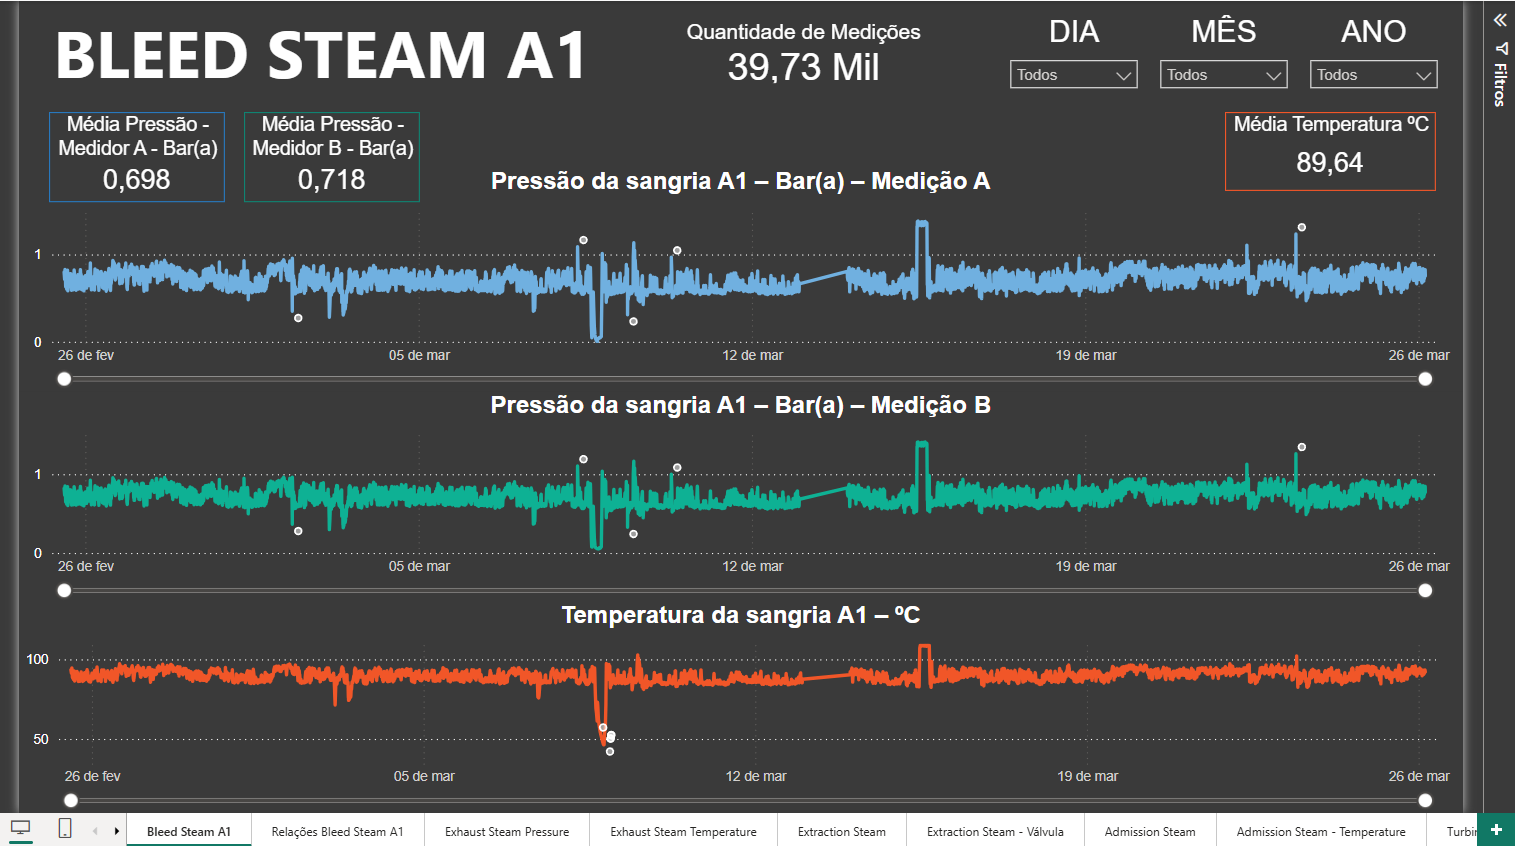

Layout of this report page (visuals, bound fields, positions):
{"tool":"powerbi","page":{"name":"Bleed Steam A1","canvas":[1280,720],"ordinal":0},"visuals":[{"type":"lineChart","title":"Pressão da sangria A1 – Bar(a) – Medição A","fields":{"Y":["Avg(TESTE - DADOS OPERAC TURB VAPOR.\"\"BLS1P_A\"\": \"\"BLEED STEAM A1 - PRESSURE (PROTECION MEASUREMENT A) - Actual Value\"\" "],"Category":["TESTE - DADOS OPERAC TURB VAPOR.Date"]},"box":[0,147.8,1280,198.4],"z":0},{"type":"textbox","box":[0,0,554.4,87.5],"z":1000},{"type":"slicer","title":"ANO","fields":{"Values":["TESTE - DADOS OPERAC TURB VAPOR.Date.Variation.Hierarquia de datas.Ano"]},"box":[1135.1,12.6,133.3,70],"z":2000},{"type":"slicer","title":"MÊS","fields":{"Values":["TESTE - DADOS OPERAC TURB VAPOR.Date.Variation.Hierarquia de datas.Mês"]},"box":[1001.8,12.6,133.3,70],"z":3000},{"type":"slicer","title":"DIA","fields":{"Values":["TESTE - DADOS OPERAC TURB VAPOR.Date.Variation.Hierarquia de datas.Dia"]},"box":[868.6,12.6,133.3,85.6],"z":4000},{"type":"lineChart","title":"Pressão da sangria A1 – Bar(a) – Medição B","fields":{"Y":["Sum(TESTE - DADOS OPERAC TURB VAPOR.\"\"BLS1P_B\"\": \"\"BLEED STEAM A1 - PRESSURE (PROTECION MEASUREMENT B) - Actual Value\"\" "],"Category":["TESTE - DADOS OPERAC TURB VAPOR.Date"]},"box":[0,346.3,1280,186.7],"z":5000},{"type":"lineChart","title":"Temperatura da sangria A1 – ºC","fields":{"Y":["Sum(TESTE - DADOS OPERAC TURB VAPOR.\"\"BLS1T\"\": \"\"BLEED STEAM A1 - TEMPERATURE - Actual Value\"\" (\"\"ºC\"\"))"],"Category":["TESTE - DADOS OPERAC TURB VAPOR.Date"]},"box":[0,533,1280,186.7],"z":6000},{"type":"card","title":"Quantidade de Medições","fields":{"Values":["CountNonNull(TESTE - DADOS OPERAC TURB VAPOR.\"\"BLS1P_A\"\": \"\"BLEED STEAM A1 - PRESSURE (PROTECION MEASUREMENT A) - Actual Value\"\" "]},"box":[572.9,16.5,246.1,61.3],"z":7000},{"type":"card","title":"Média Pressão - Medidor A - Bar(a)","fields":{"Values":["Avg(TESTE - DADOS OPERAC TURB VAPOR.\"\"BLS1P_A\"\": \"\"BLEED STEAM A1 - PRESSURE (PROTECION MEASUREMENT A) - Actual Value\"\" "]},"box":[26.3,98.2,155.6,79.8],"z":8000},{"type":"card","title":"Média Temperatura ºC","fields":{"Values":["Avg(TESTE - DADOS OPERAC TURB VAPOR.\"\"BLS1T\"\": \"\"BLEED STEAM A1 - TEMPERATURE - Actual Value\"\" (\"\"ºC\"\"))"]},"box":[1068.9,98.2,186.7,70],"z":9000},{"type":"card","title":"Média Pressão - Medidor B - Bar(a)","fields":{"Values":["Avg(TESTE - DADOS OPERAC TURB VAPOR.\"\"BLS1P_B\"\": \"\"BLEED STEAM A1 - PRESSURE (PROTECION MEASUREMENT B) - Actual Value\"\" "]},"box":[199.4,98.2,155.6,79.8],"z":10000}]}

Visuals, with their boxes on the page's 1280x720 design canvas (x1, y1, x2, y2). These are canvas units, not pixel positions in the 1515x846 screenshot, which may show the page scaled, cropped or inside an application window:
"Pressão da sangria A1 – Bar(a) – Medição A" lineChart: left=0, top=148, right=1280, bottom=346
textbox: left=0, top=0, right=554, bottom=88
"ANO" slicer: left=1135, top=13, right=1268, bottom=83
"MÊS" slicer: left=1002, top=13, right=1135, bottom=83
"DIA" slicer: left=869, top=13, right=1002, bottom=98
"Pressão da sangria A1 – Bar(a) – Medição B" lineChart: left=0, top=346, right=1280, bottom=533
"Temperatura da sangria A1 – ºC" lineChart: left=0, top=533, right=1280, bottom=720
"Quantidade de Medições" card: left=573, top=16, right=819, bottom=78
"Média Pressão - Medidor A - Bar(a)" card: left=26, top=98, right=182, bottom=178
"Média Temperatura ºC" card: left=1069, top=98, right=1256, bottom=168
"Média Pressão - Medidor B - Bar(a)" card: left=199, top=98, right=355, bottom=178
